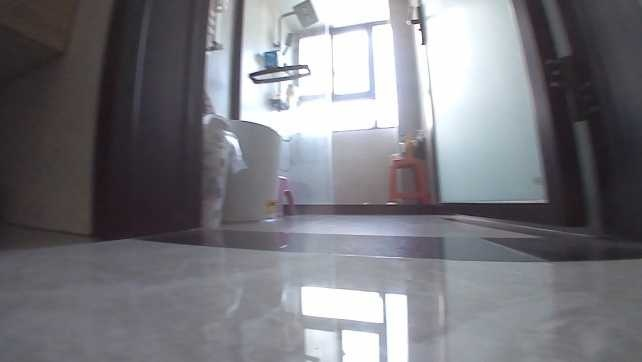door_anno: (403, 0, 598, 233)
plastic_stool: (385, 156, 432, 203)
toilet: (222, 114, 287, 223)
